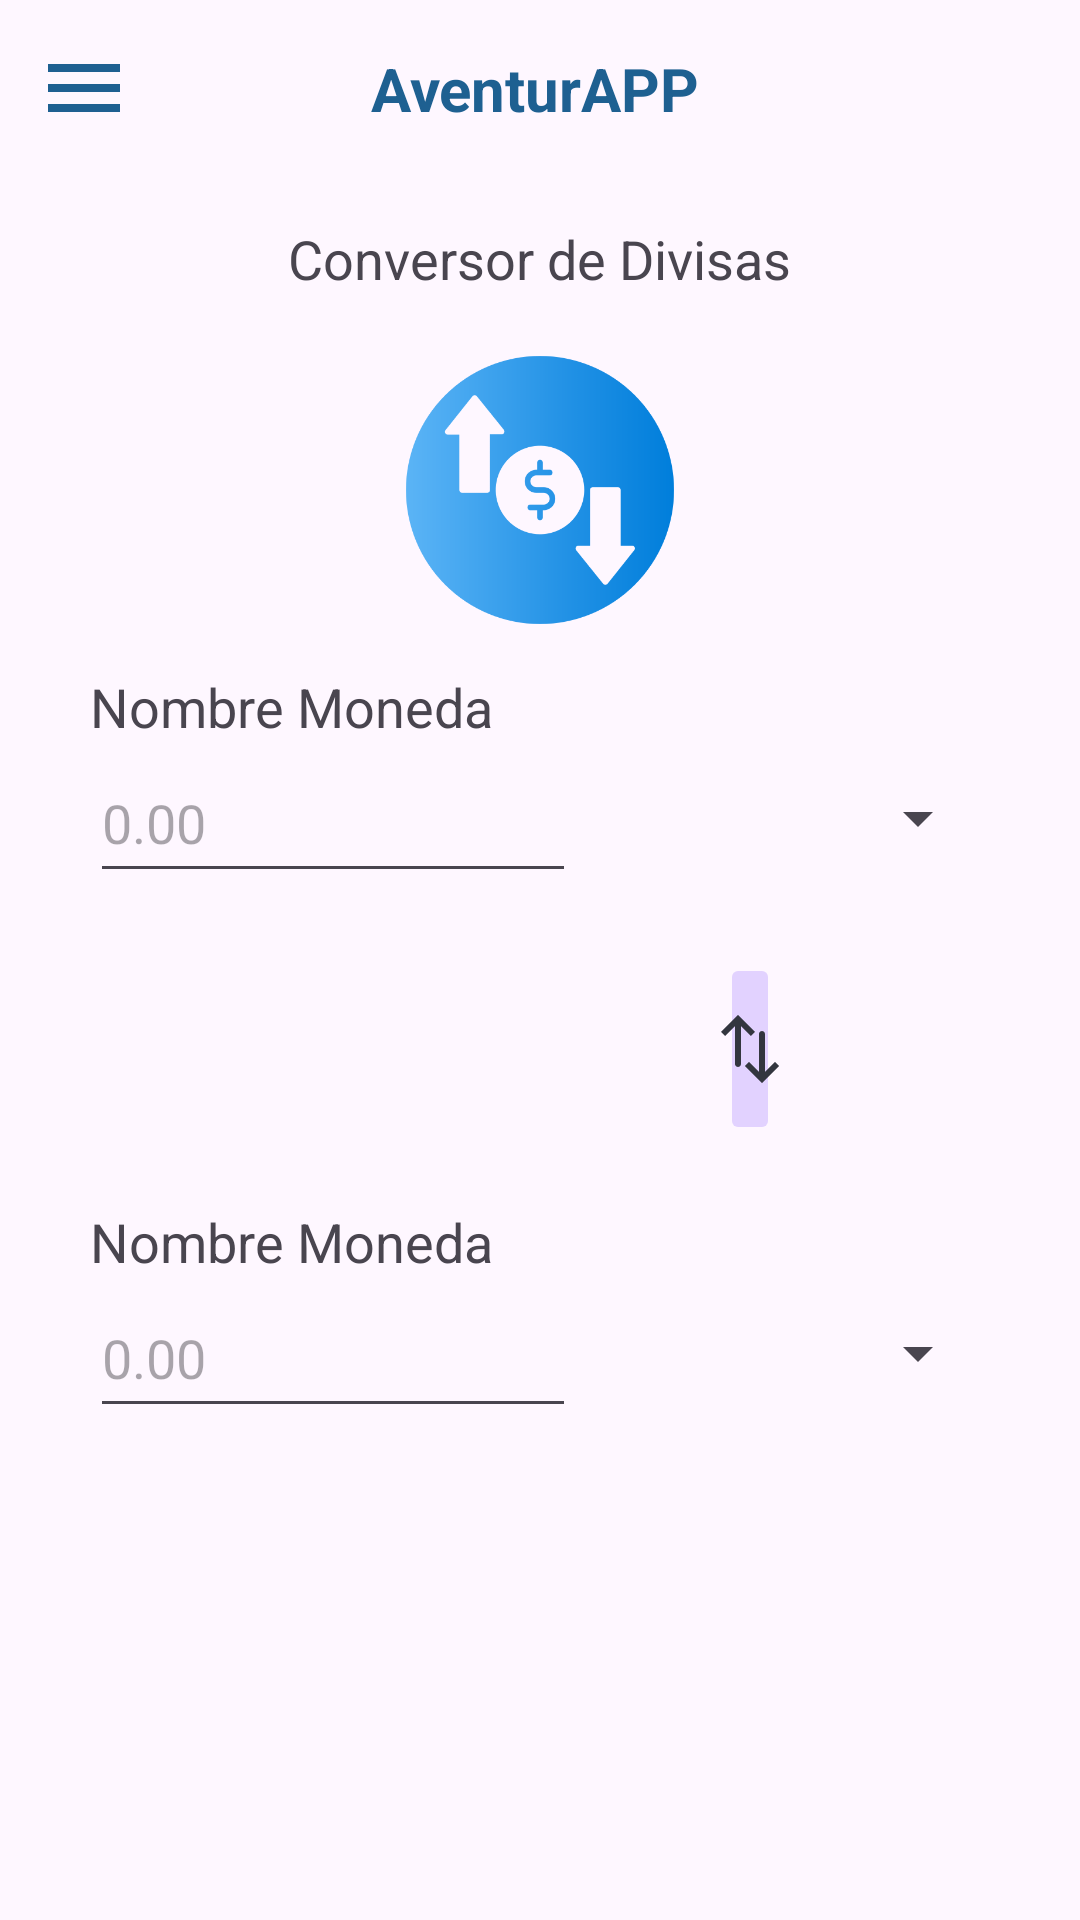

Locate icon controls on the screen. Image size 1080x1920, boxes as (x1, y1, x2, y2).
Invertir Valores: (721, 971, 779, 1127)
menu: (48, 64, 120, 112)
